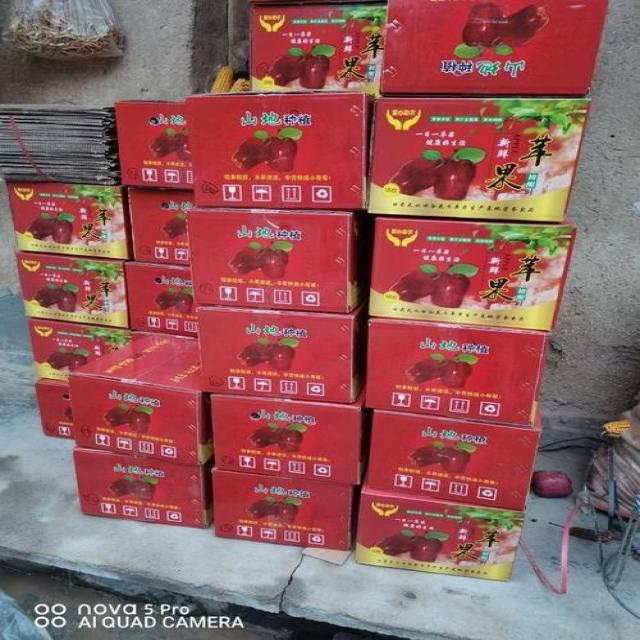box: (367, 97, 593, 222), (368, 214, 578, 331), (184, 91, 375, 208), (381, 0, 609, 96), (365, 317, 550, 425), (366, 401, 542, 512), (69, 333, 214, 466), (186, 208, 361, 313), (354, 478, 525, 581), (195, 304, 366, 404), (210, 384, 366, 485), (248, 0, 387, 98), (73, 445, 215, 529), (211, 467, 354, 550), (6, 181, 133, 259), (15, 251, 129, 328), (114, 100, 193, 188), (28, 318, 132, 383), (124, 261, 203, 338), (128, 186, 197, 265), (34, 379, 75, 440)
